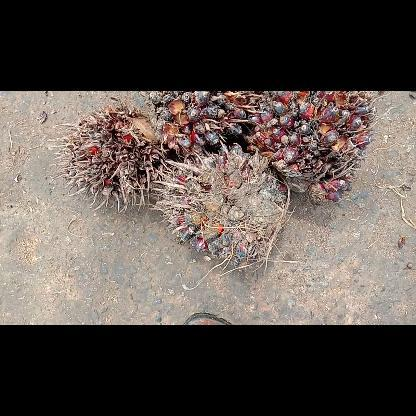TBS abnormal: (148, 140, 294, 276), (246, 91, 390, 203), (52, 100, 168, 212), (144, 90, 262, 156)
